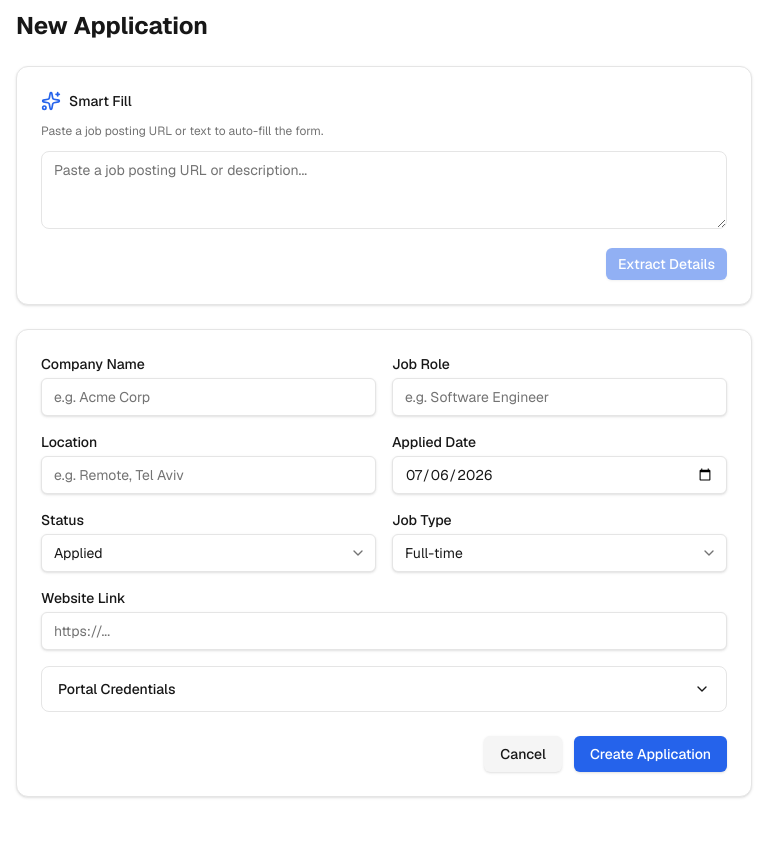
Test: NewApplicationPage › shows validation errors when required fields are empty
Note: Clear fields that have defaults
Clear the date field labelled "Applied Date" at (560, 475), box [392, 456, 727, 494]
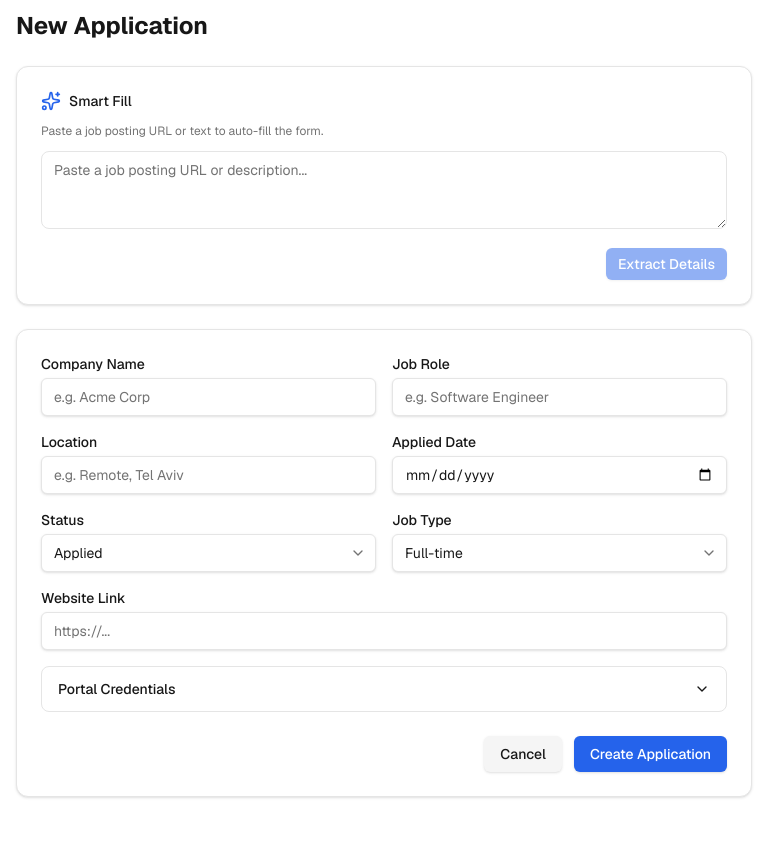
Click the button "Create Application" at (650, 754), box [574, 736, 727, 772]
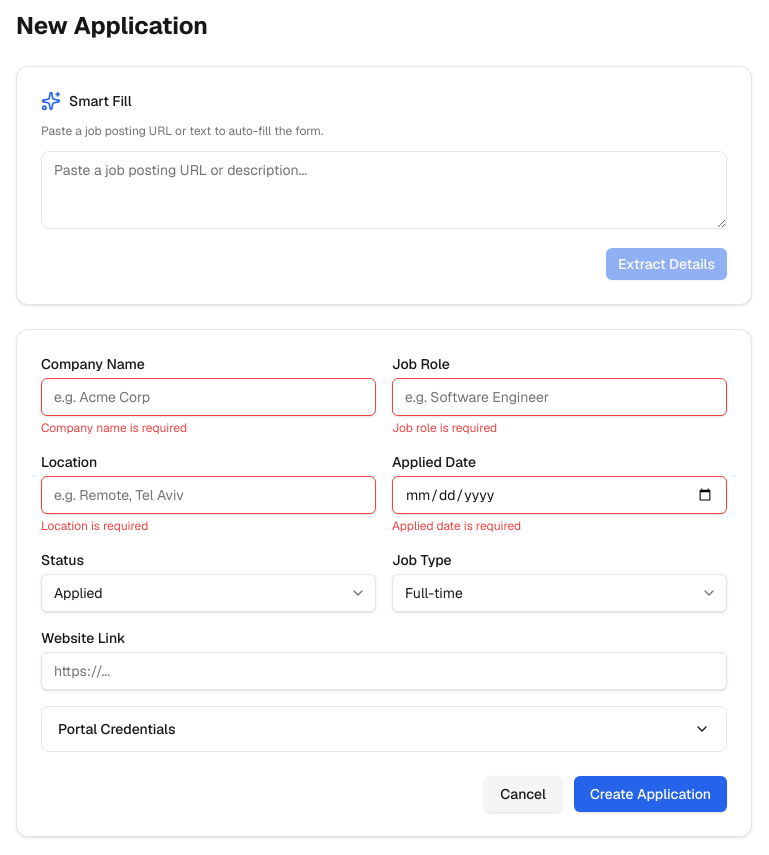
Expected: the text "Company name is required" is shown, [41, 420, 187, 436]
Expected: the text "Job role is required" is shown, [392, 420, 497, 436]
Expected: the text "Location is required" is shown, [41, 518, 148, 534]
